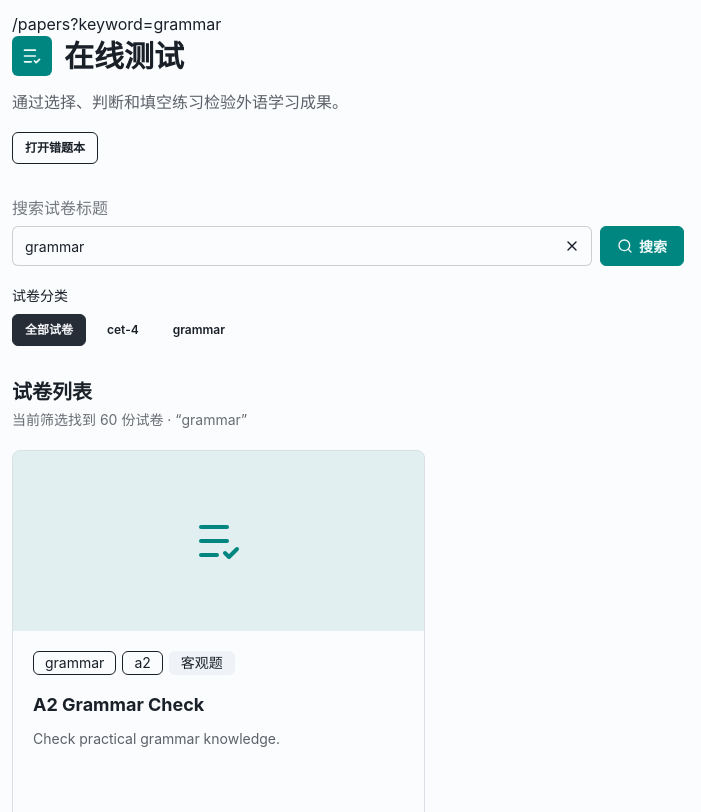
Test case: PapersPage › filters by a shortcut category and preserves keyword state
The width and height of the screenshot is (701, 812).
What coordinates should you click on to do the following:
click the button "cet-4"
I would click on:
 (123, 330)
Its box is [94,314,152,346].
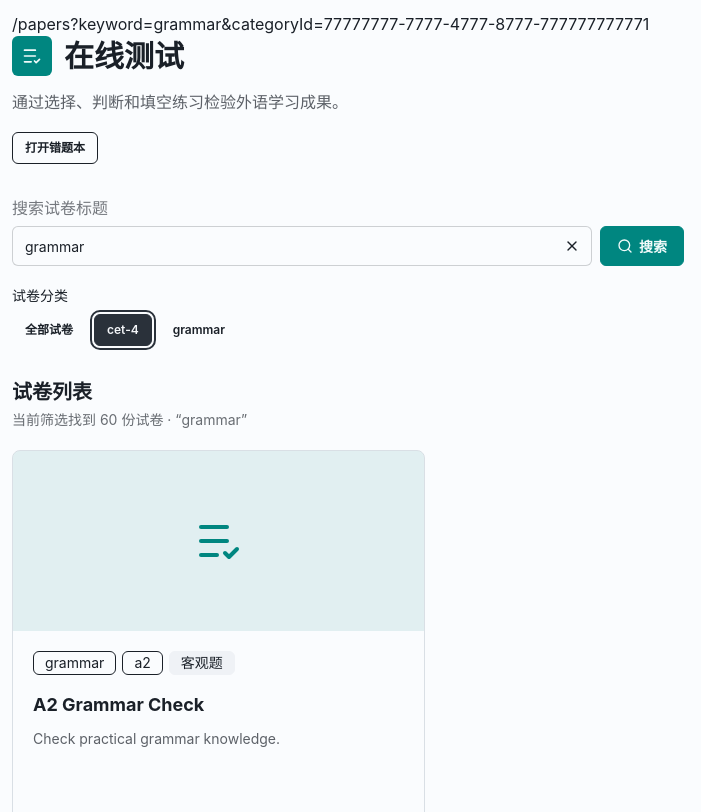
expect the text with test id "location" shows "/papers?keyword=grammar&categoryId=": met, box [12,14,649,34]
